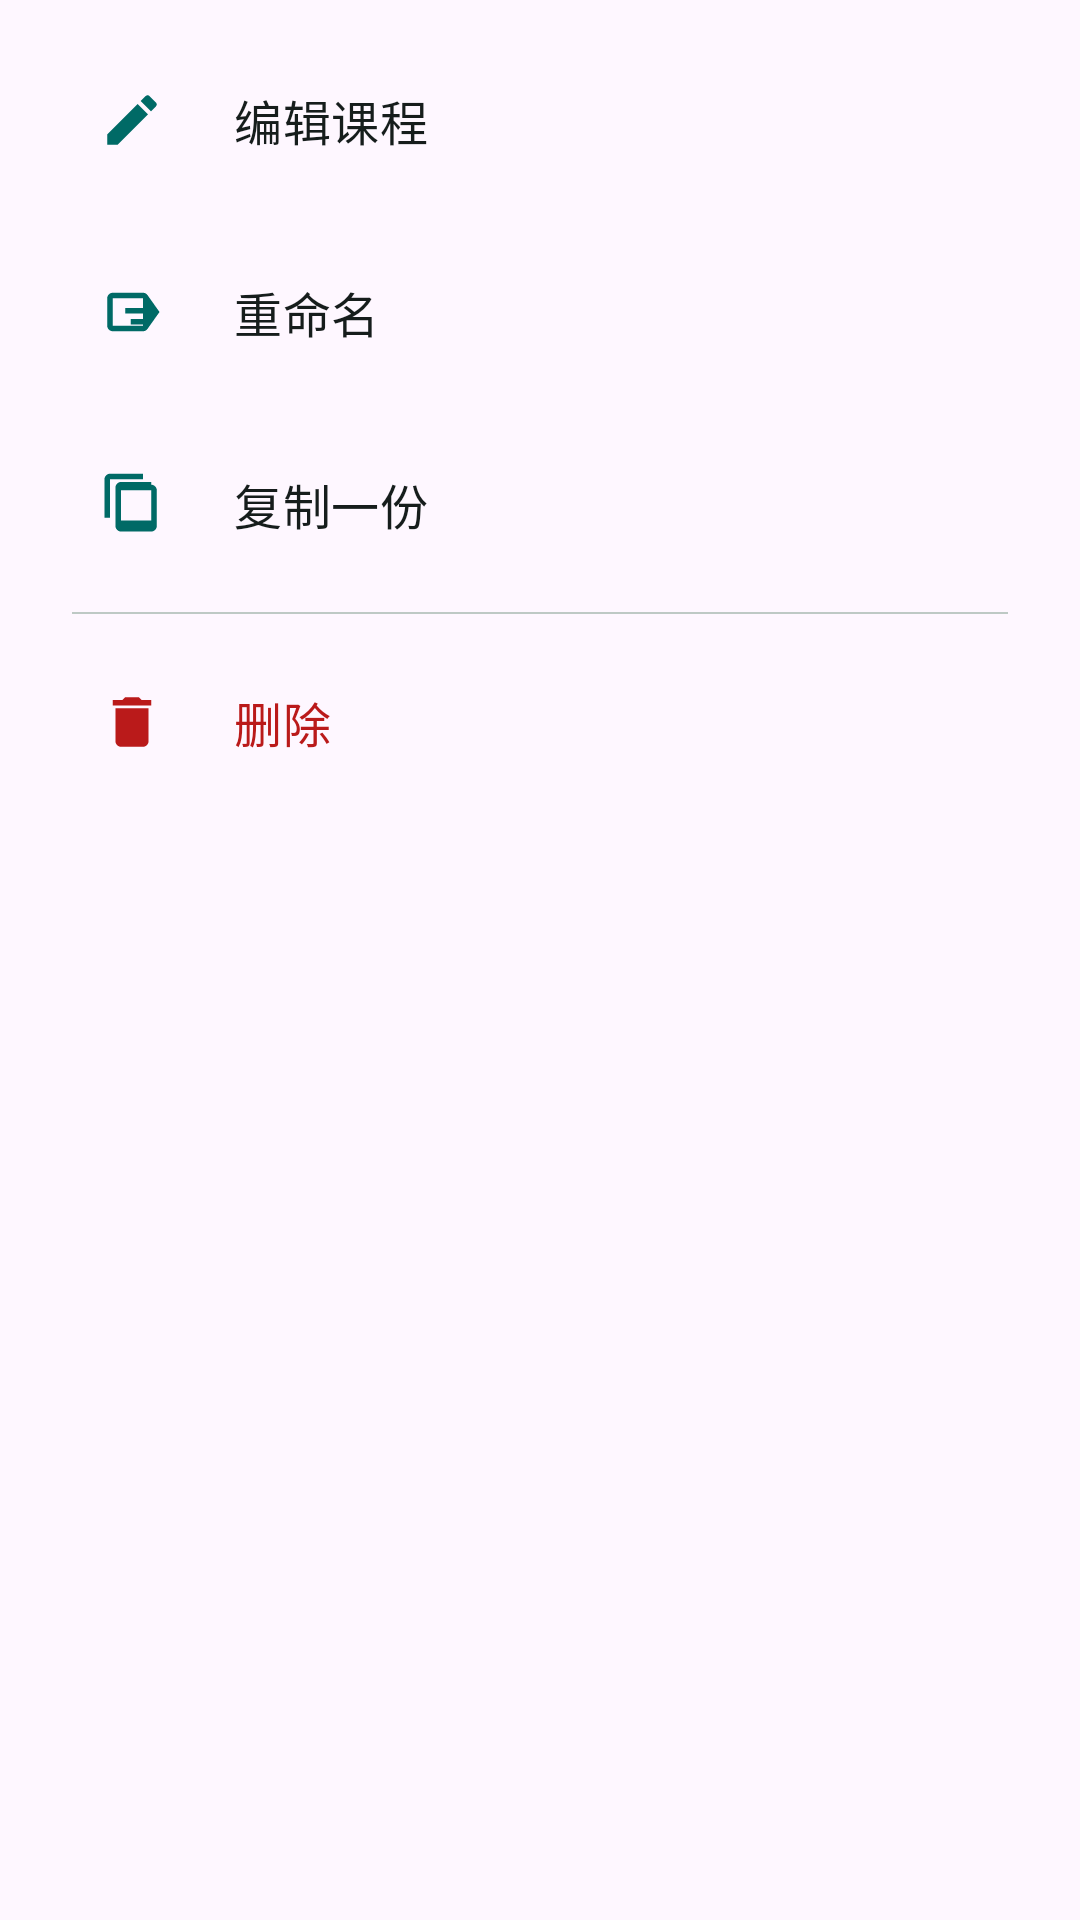

Point at icon controls on the screen. Image size 1080 x 1920, points as [x,y].
delete: [132,722]
edit: [132,120]
rename: [133,312]
